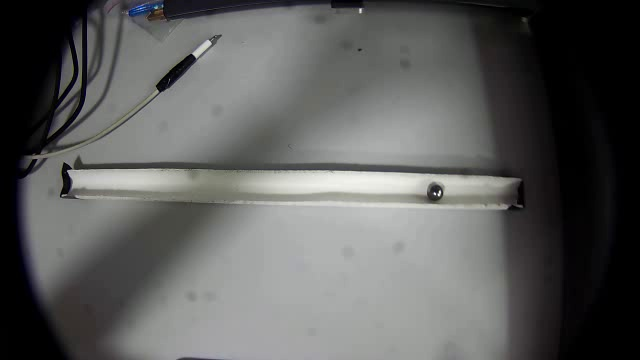gangzhu: (425, 182, 446, 202)
